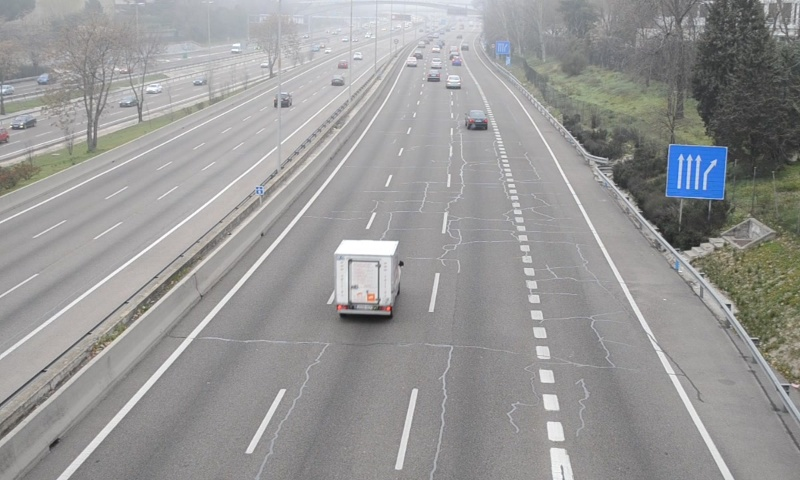car: (465, 108, 489, 128)
small-truck: (336, 240, 403, 315)
